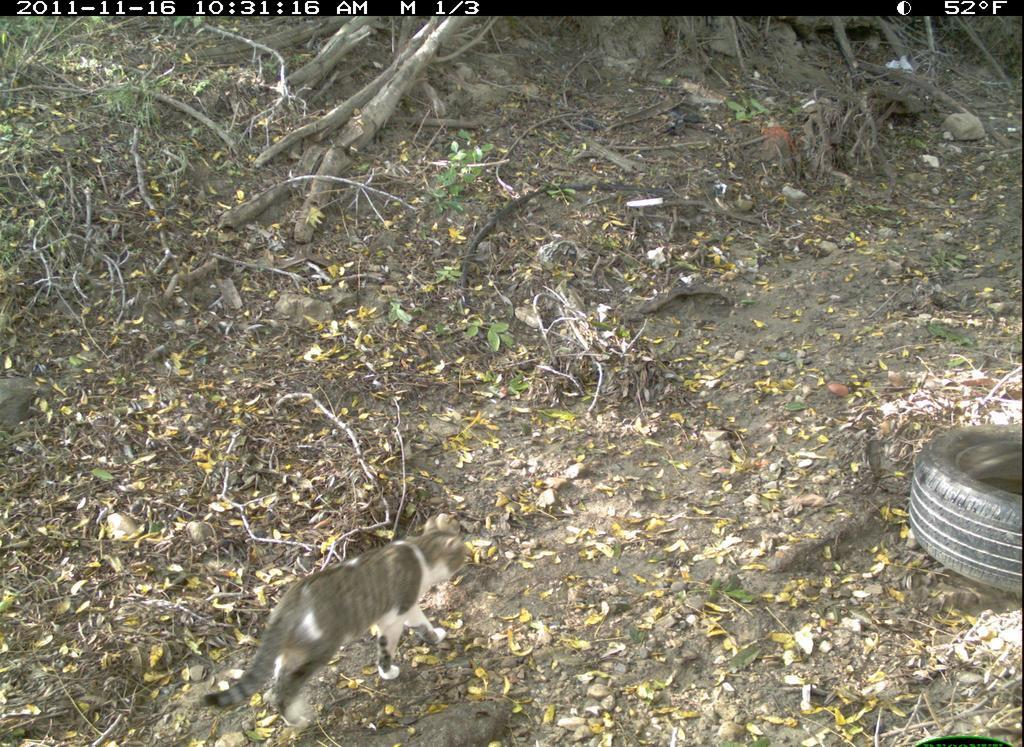cat: (201, 510, 473, 733)
